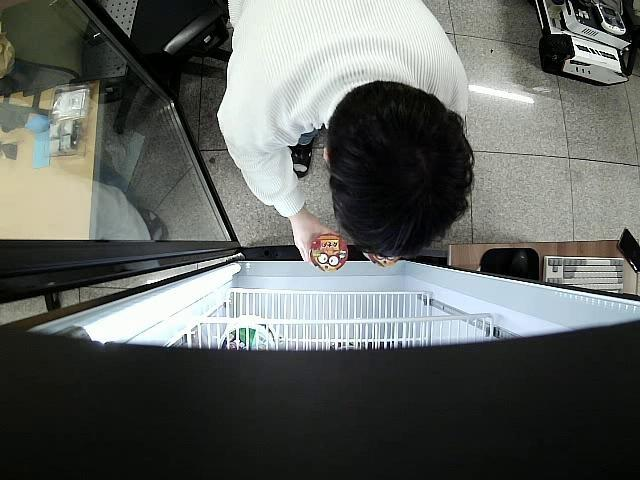06_nuguri_S: (310, 232, 349, 274)
